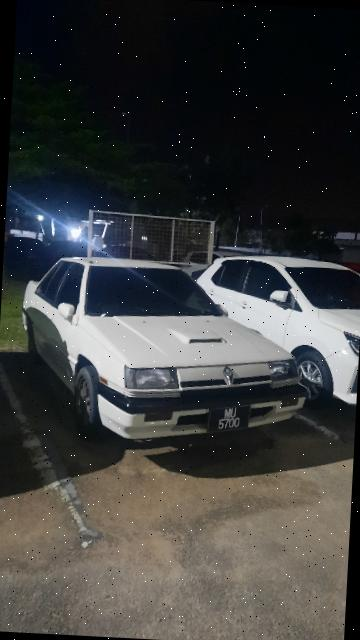License_Plate: (199, 388, 256, 441)
car: (18, 248, 313, 447), (180, 252, 360, 409)
